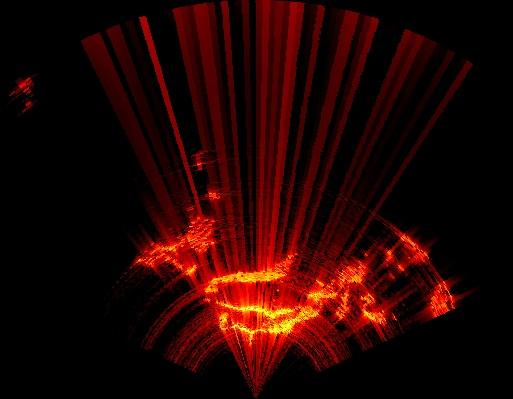shipwreck: (216, 260, 387, 343), (133, 240, 296, 300), (381, 236, 453, 316)
